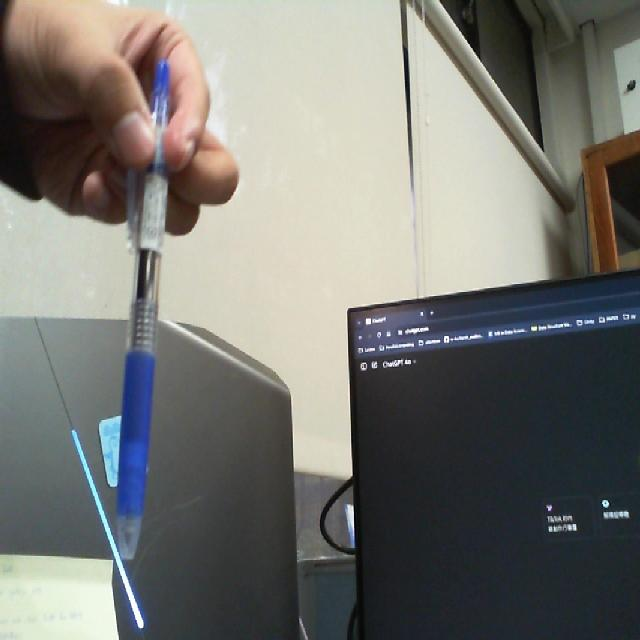Pen: (105, 51, 178, 578)
